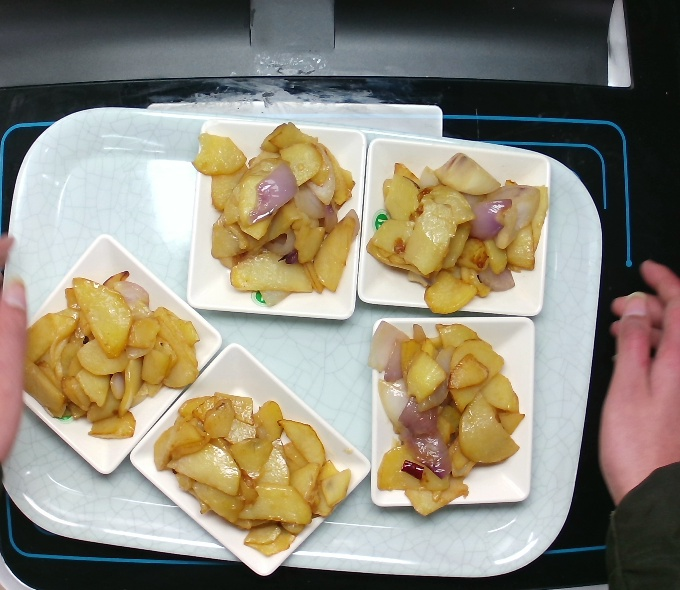wcq-TuDouPian: (150, 391, 356, 555), (366, 146, 548, 317), (368, 317, 524, 516), (194, 120, 360, 305), (26, 273, 202, 446)
